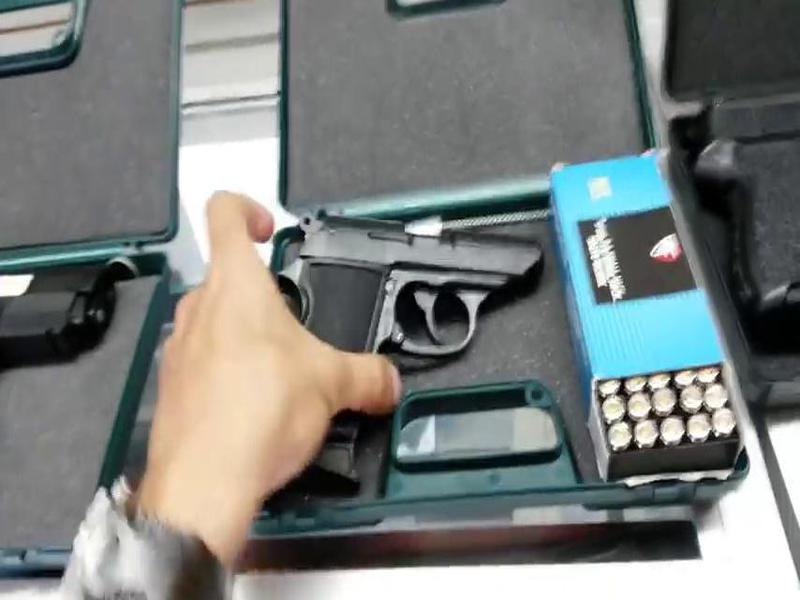Pistola: (261, 194, 555, 454)
